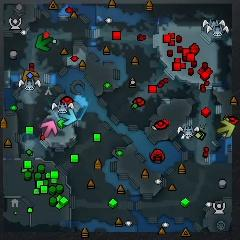x1: (41, 121, 58, 138)
x2: (217, 120, 235, 138)
x3: (59, 109, 77, 126)
x4: (35, 34, 53, 51)
x5: (22, 70, 39, 83)
